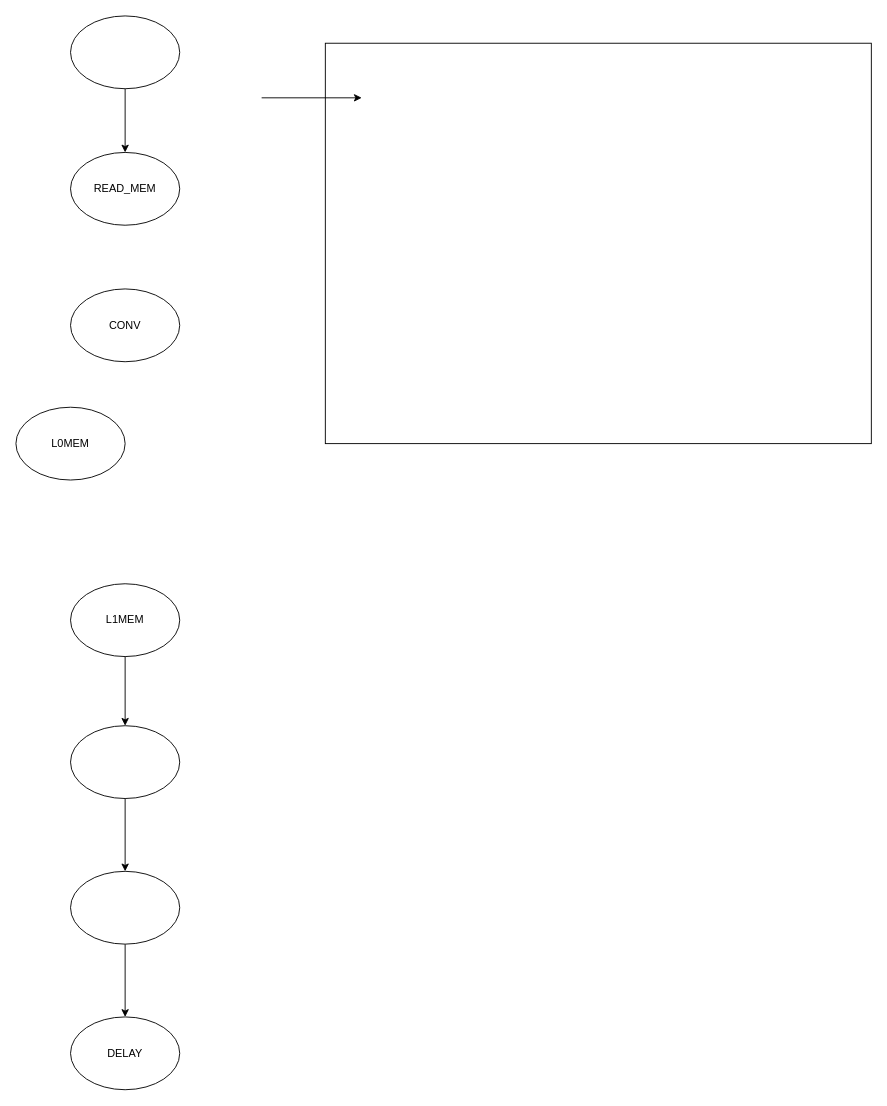
This 887x1106 diagram has some shape labels left out. Here are the shapes that lost their labels. From the top down, the centre of each, then its label:
At point 125,52: "IDLE".
At point 125,762: "L2MEM".
At point 125,907: "FINISH".
